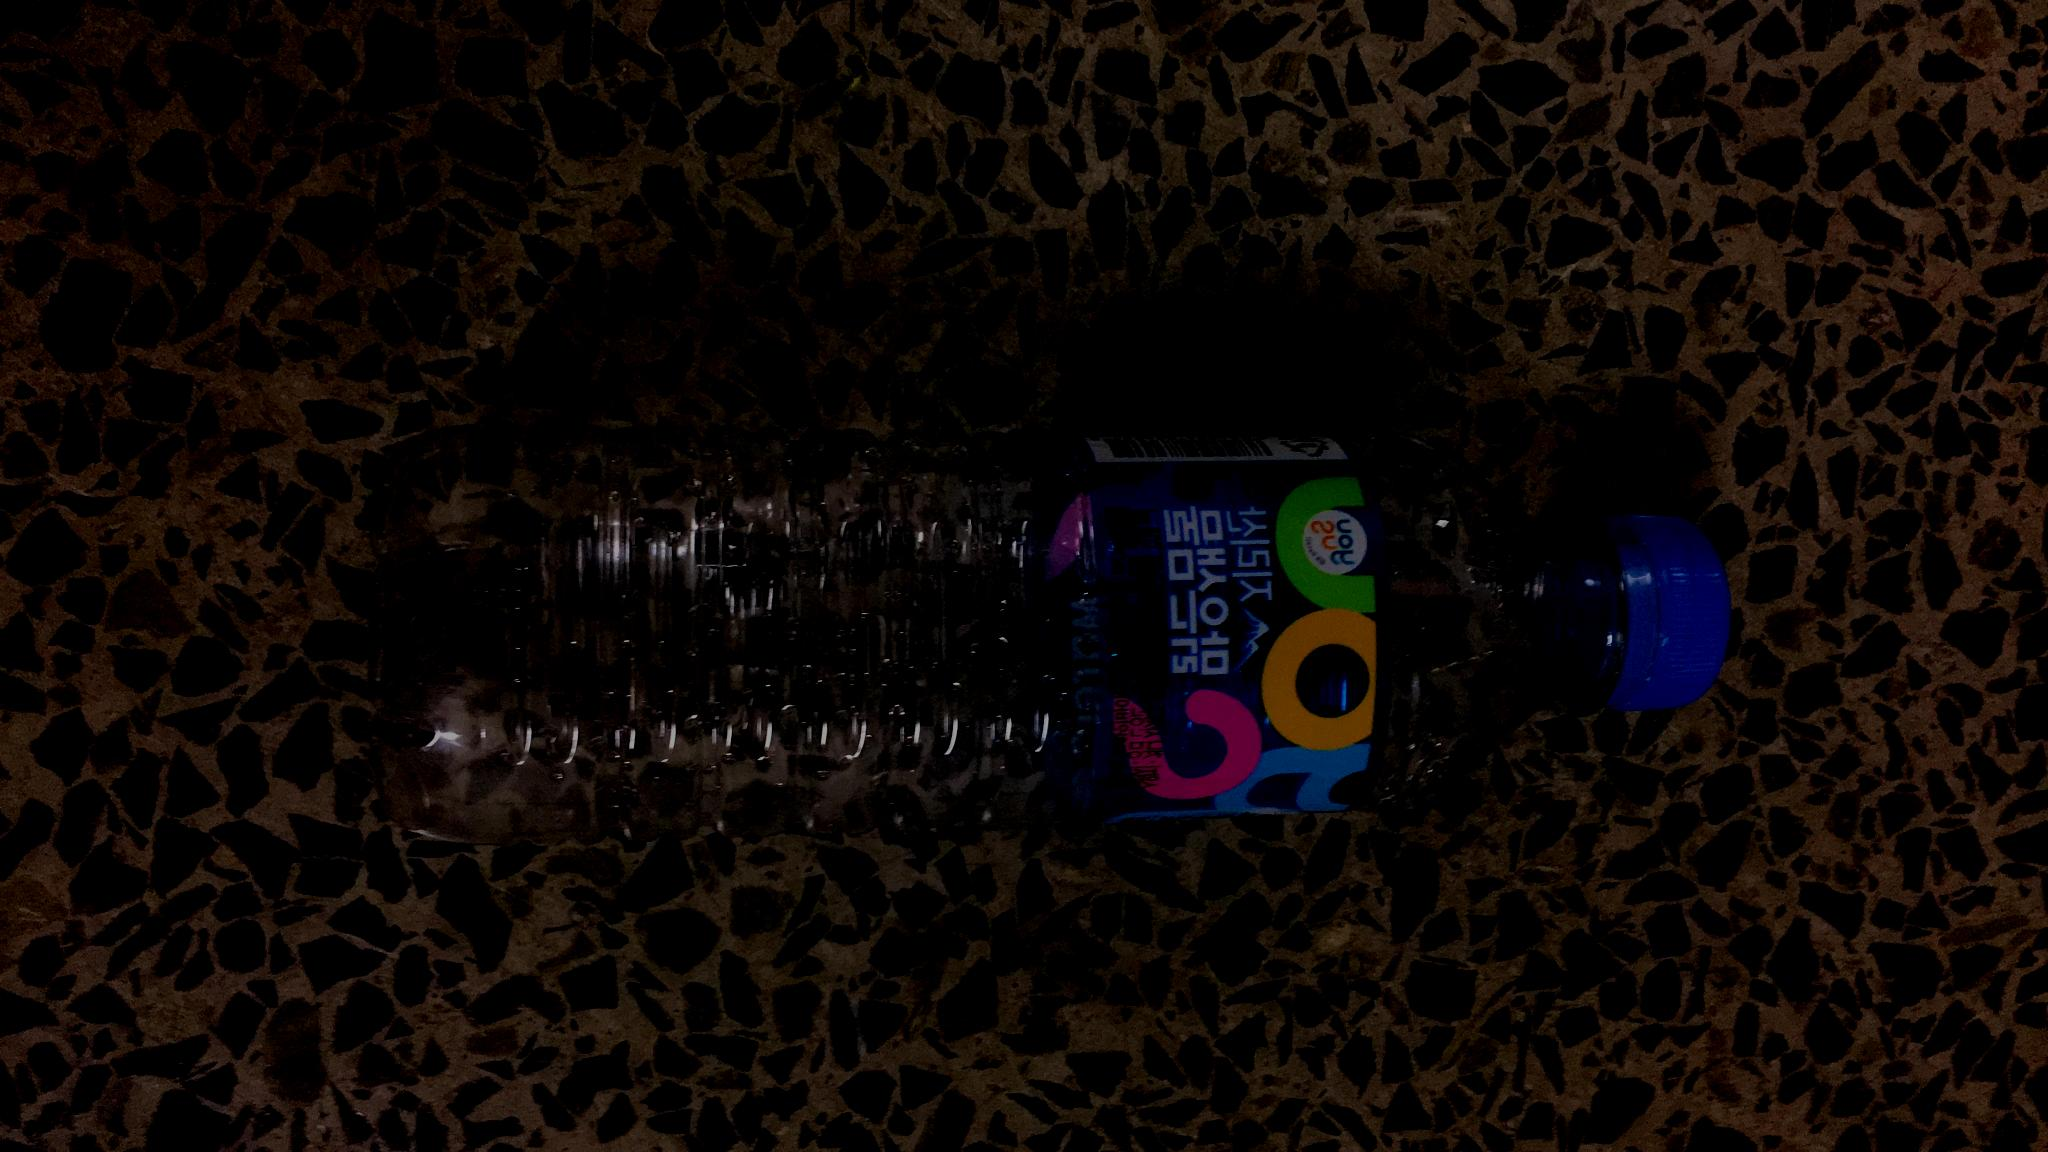bottle: (352, 419, 1739, 857)
